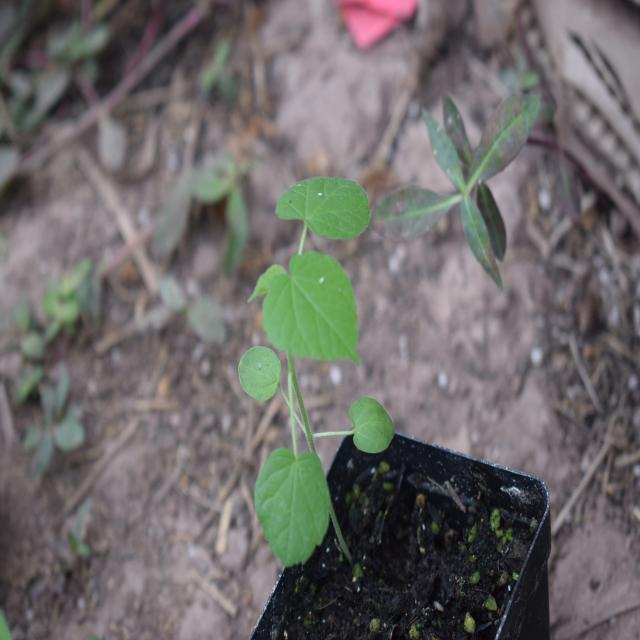abutilon theophrasti: (192, 169, 412, 563)
